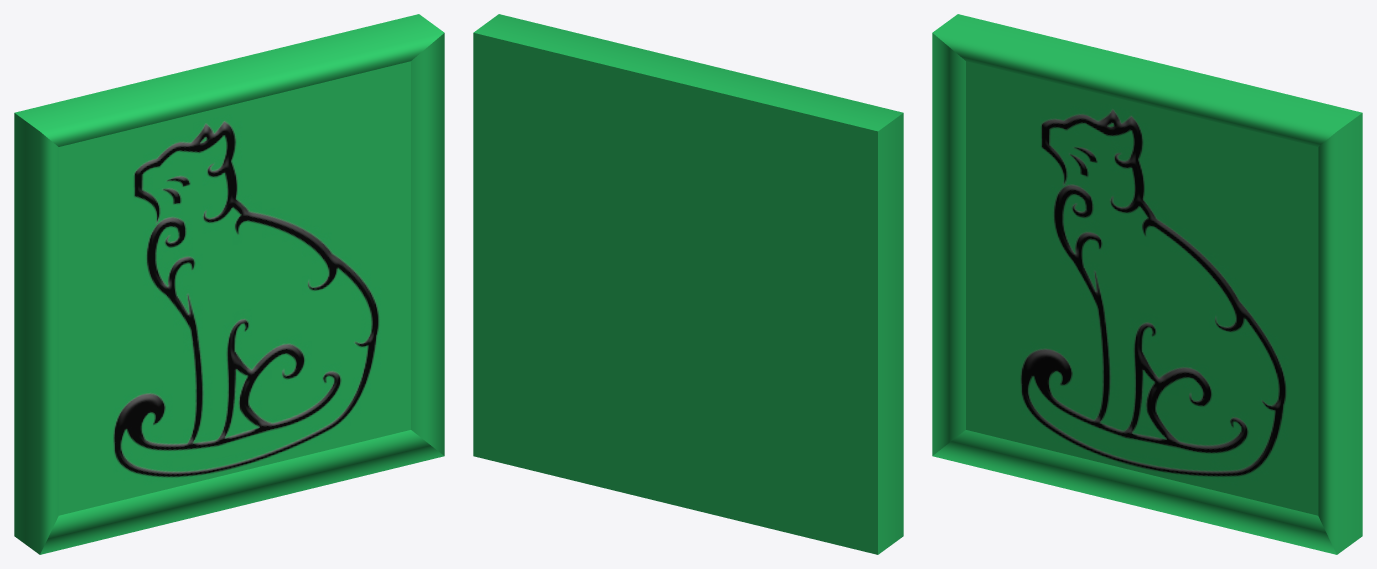
File: Green Cat.fbx
3 views of the same model, side by side, from view 1: azimuth 30°, elevation 25°; view 2: azimuth 150°, elevation 25°; view 3: azimuth 330°, elevation 25° (orthographic).
Visible parts, largest first — view 1: pCube1; view 2: pCube1; view 3: pCube1.
Boxes of the visible parts, x1,y1,x2,y2 form: pCube1: (14, 14, 444, 554); pCube1: (473, 14, 903, 554); pCube1: (932, 14, 1362, 554).
Size of the model in its own units: 3 by 3 by 0.3283.
Materials: 1 (1 with a texture image).
